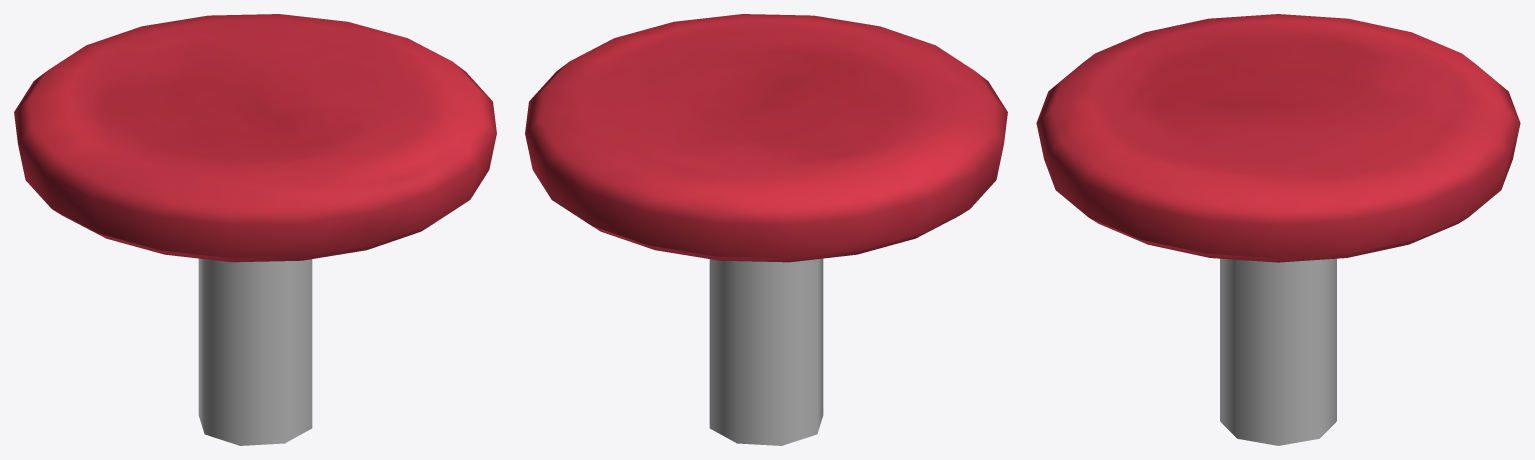
File: ButtonTop.fbx
3 views of the same model, side by side, from view 1: azimuth 30°, elevation 25°; view 2: azimuth 150°, elevation 25°; view 3: azimuth 270°, elevation 25° (orthographic).
Visible parts, largest first — view 1: Button_Top_Red, stem; view 2: Button_Top_Red, stem; view 3: Button_Top_Red, stem.
Boxes of the visible parts, x1,y1,x2,y2 form: Button_Top_Red: (14,14,496,262); stem: (198,258,312,445); Button_Top_Red: (525,14,1007,262); stem: (709,258,823,445); Button_Top_Red: (1036,14,1520,262); stem: (1220,258,1336,445).
Bounding box in the file's own units: 0.1086 × 0.0794 × 0.1086.
